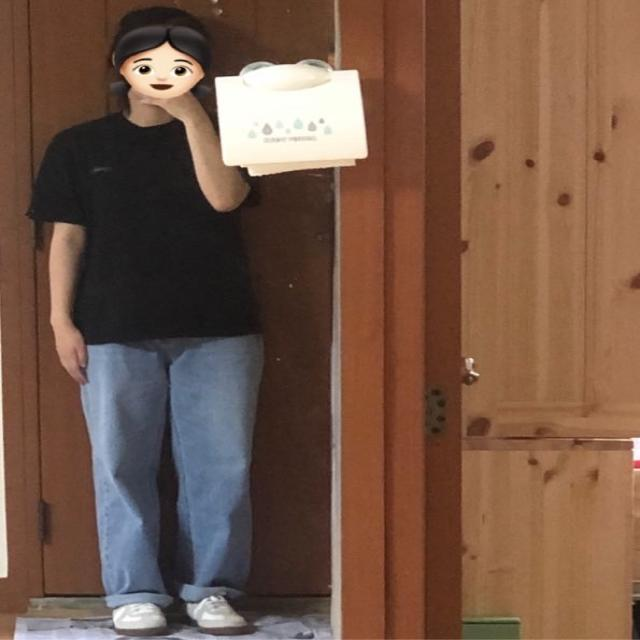denimpants: (80, 333, 268, 600)
shortsleeve: (31, 115, 270, 338)
